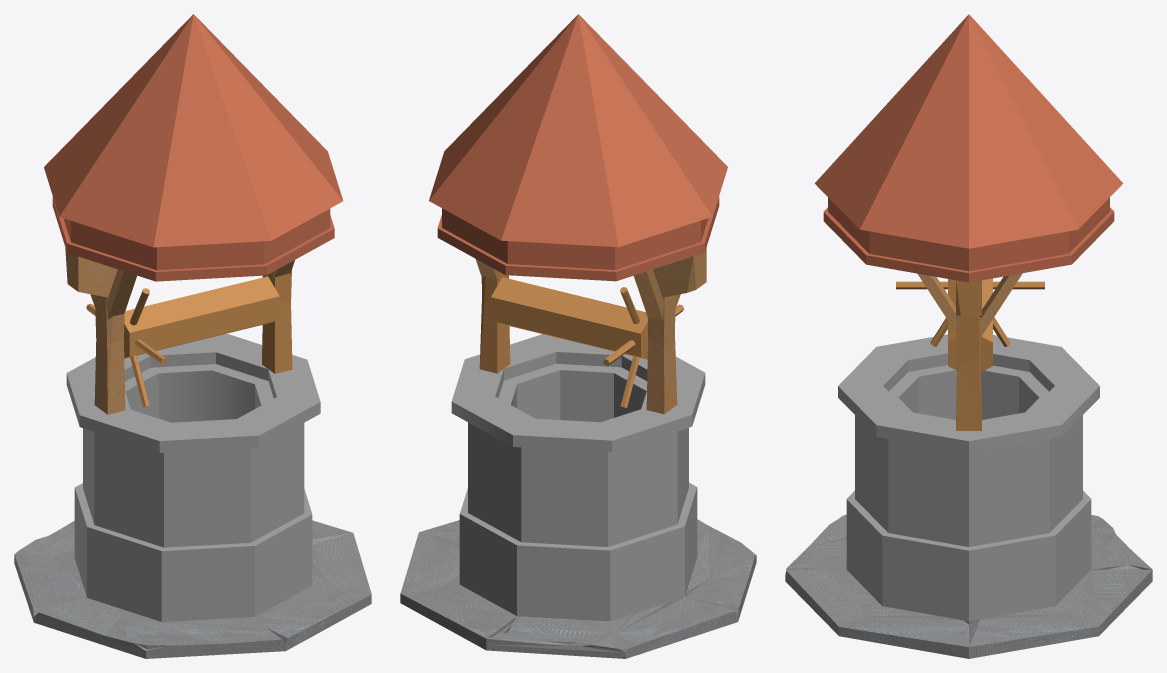
Rendered from Well.fbx.
3 renders of one model, left to right at view 1: azimuth 30°, elevation 25°; view 2: azimuth 150°, elevation 25°; view 3: azimuth 270°, elevation 25°, orthographic.
Visible parts, largest first — view 1: Kolodec1, Kupol_Kolodec1, Group2, G_55_1, G_31_1, G_31_2, G_51_1; view 2: Kolodec1, Kupol_Kolodec1, Group2, G_55_1, G_31_1, G_31_2, G_51_2; view 3: Kolodec1, Kupol_Kolodec1, Group2, G_31_2, G_55_1, G_51_4, G_51_3.
Boxes of the visible parts, x1,y1,x2,y2 form: Kolodec1: (66,334,320,621); Kupol_Kolodec1: (44,14,343,281); Group2: (14,520,371,658); G_55_1: (124,276,279,358); G_31_1: (65,248,125,414); G_31_2: (262,270,292,373); G_51_1: (106,269,136,319); Kolodec1: (451,334,705,621); Kupol_Kolodec1: (429,14,727,281); Group2: (400,519,756,658); G_55_1: (491,277,647,359); G_31_1: (646,247,706,414); G_31_2: (479,272,510,373); G_51_2: (634,269,664,319); Kolodec1: (838,334,1099,621); Kupol_Kolodec1: (815,14,1122,282); Group2: (785,514,1152,658); G_31_2: (956,280,981,430); G_55_1: (948,278,992,372); G_51_4: (979,273,1022,336); G_51_3: (917,273,956,332).
Size of the model in its own units: 1415 by 2410 by 1415.
